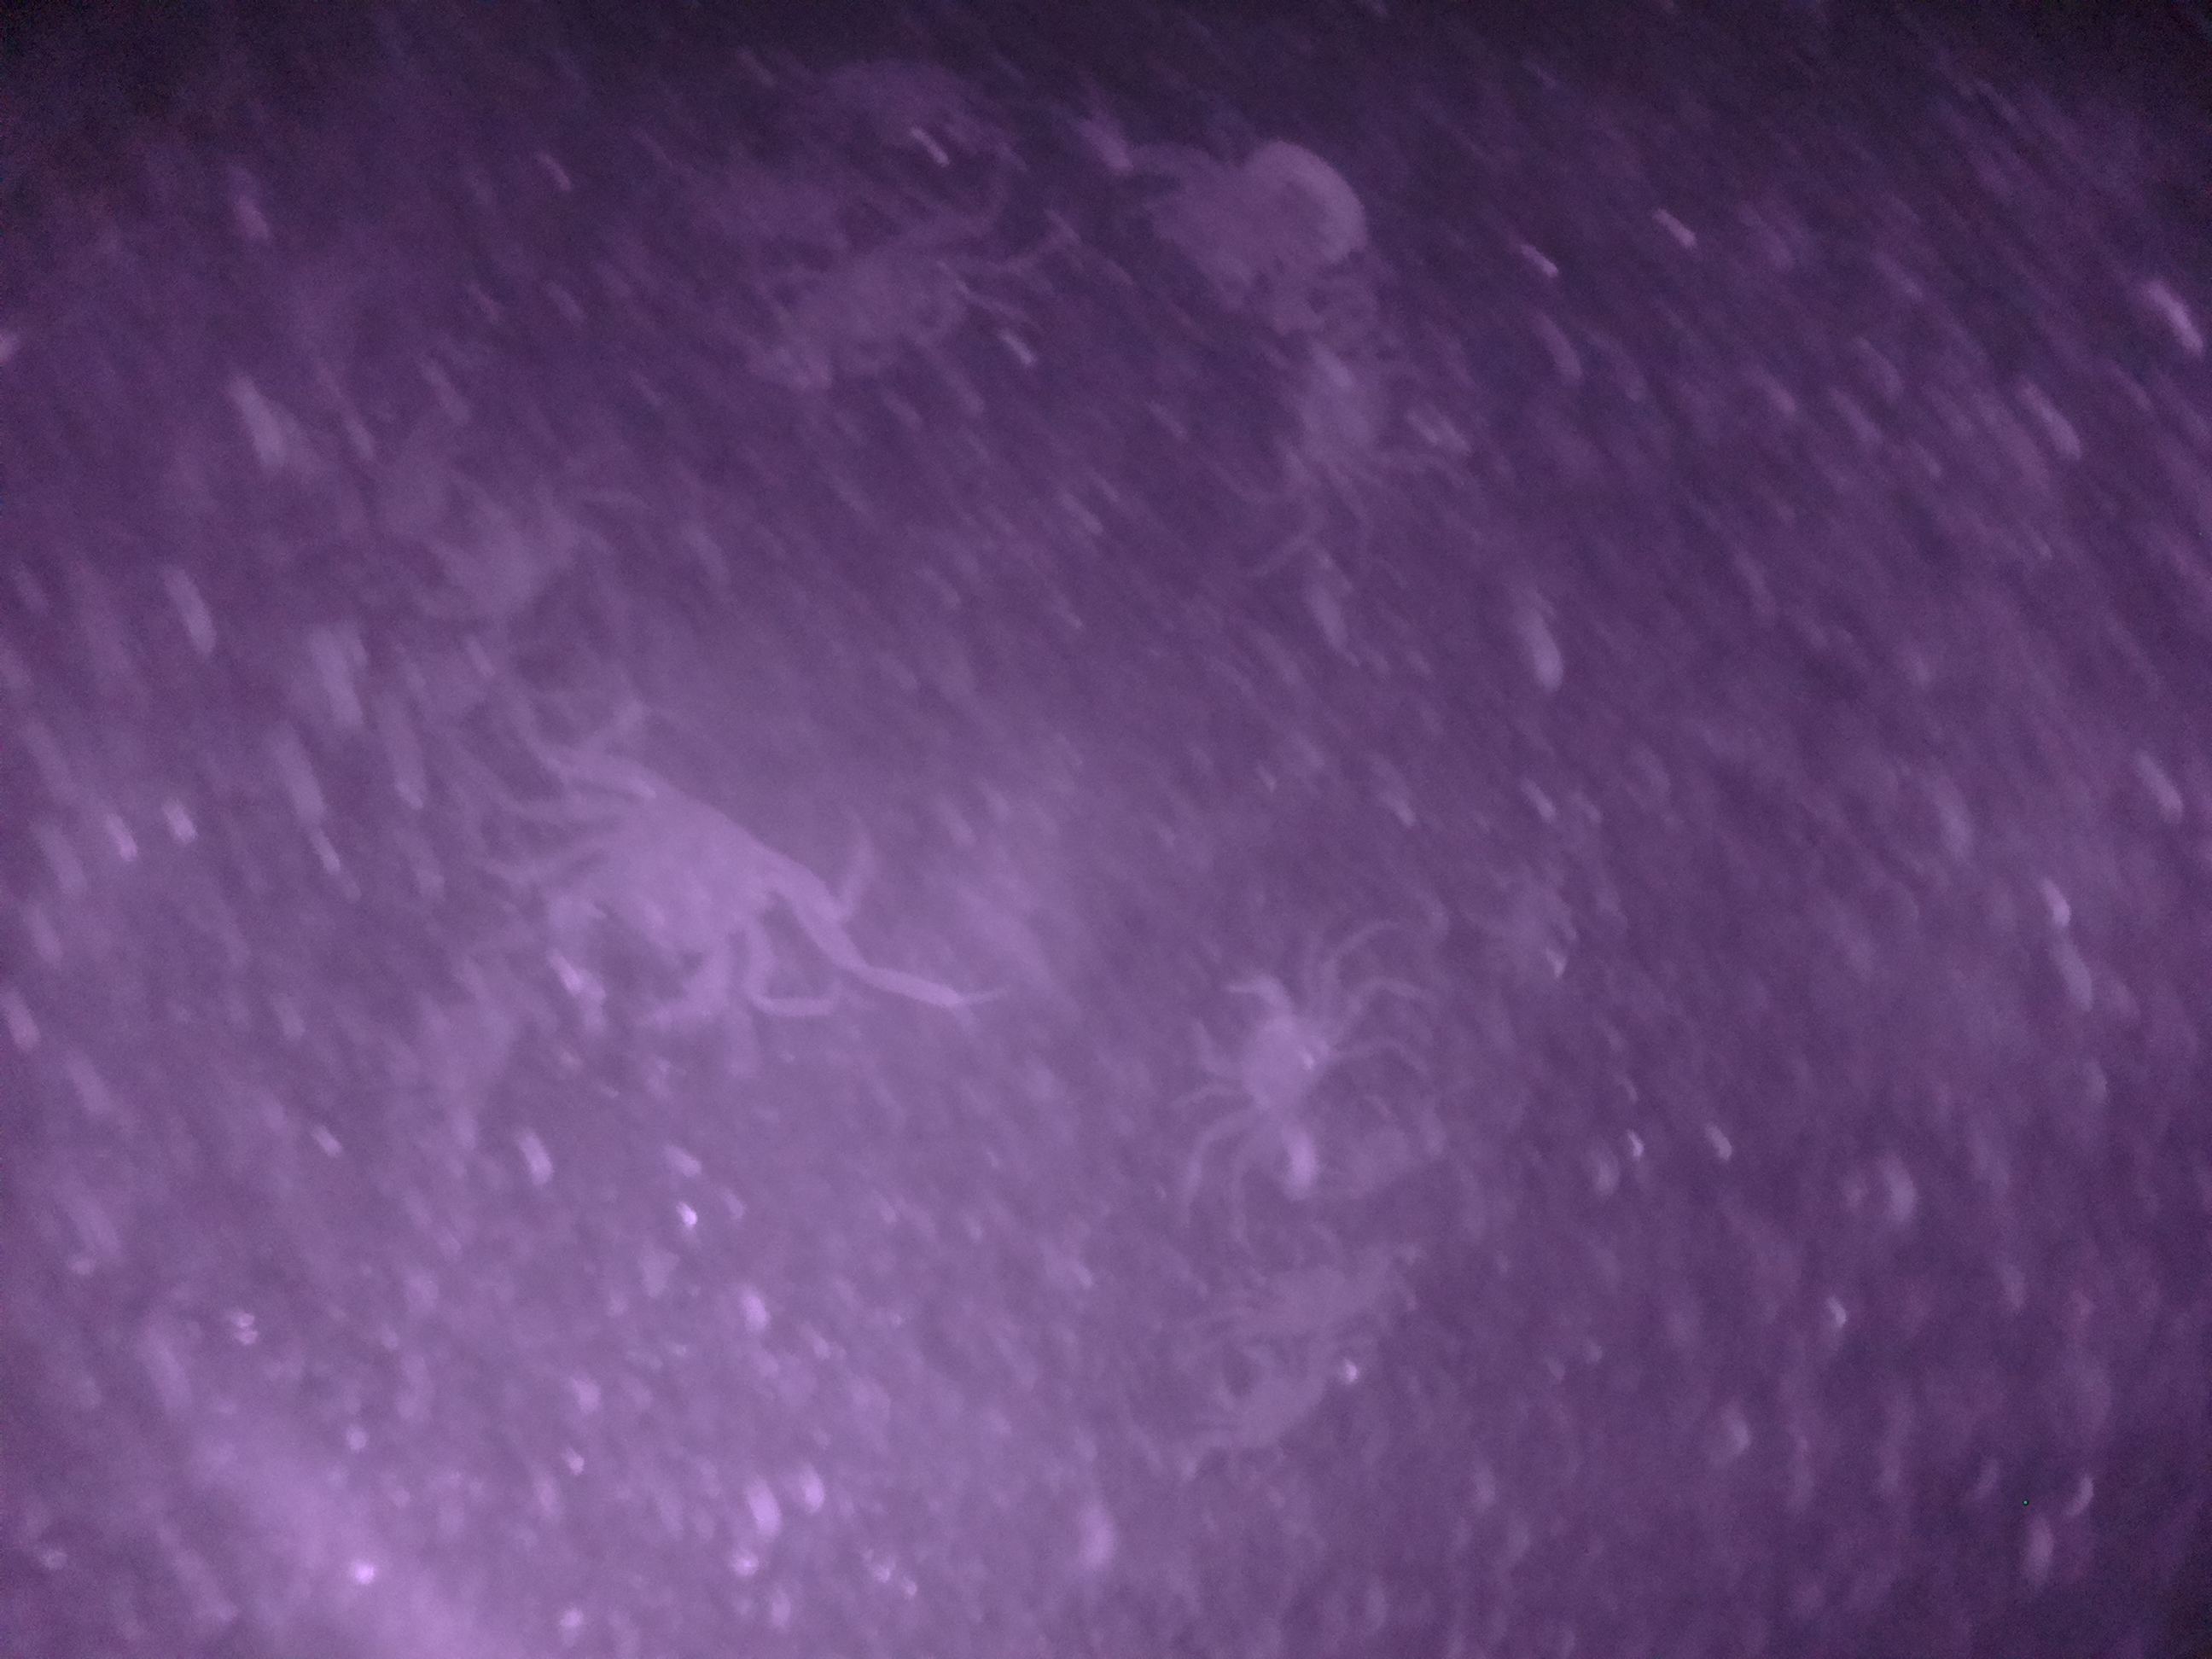Crab: (1165, 951, 1381, 1145)
